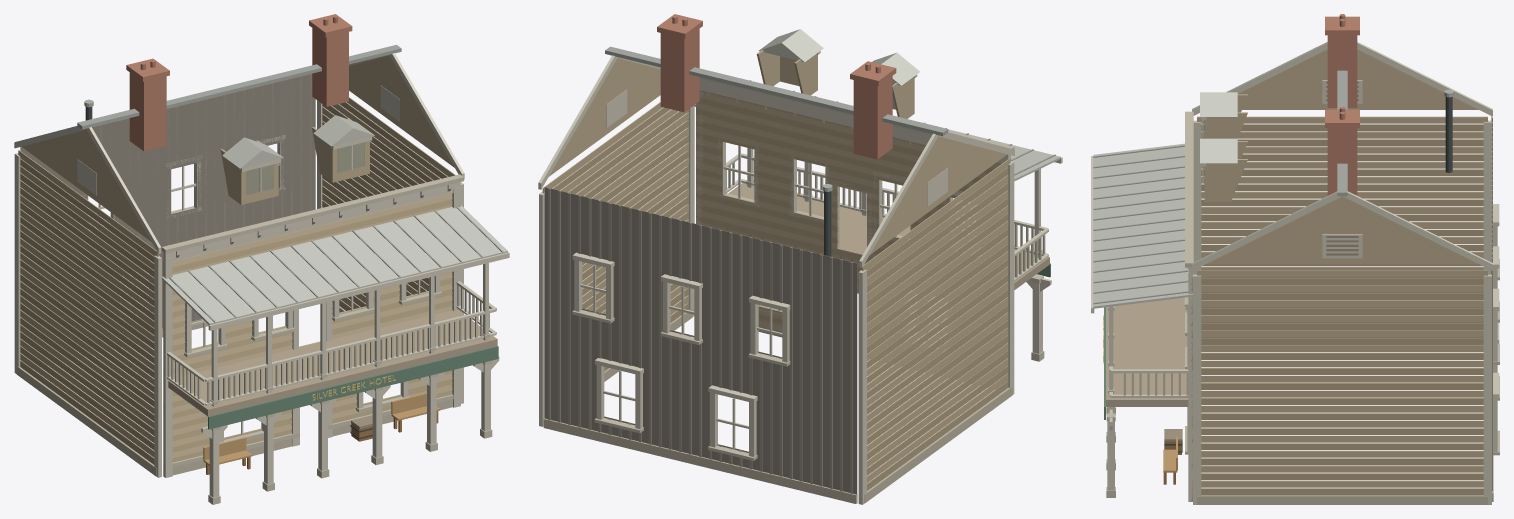
The model's file is hotel.glb.
The picture shows the model from 3 angles, left to right: view 1: azimuth 30°, elevation 25°; view 2: azimuth 150°, elevation 25°; view 3: azimuth 270°, elevation 25°; orthographic projection. The views are drawn at different scales.
Parts seen in each view (by area): view 1: Hotel paint, Hotel roof, Hotel wood, Hotel stone, Hotel glass; view 2: Hotel paint, Hotel stone, Hotel roof, Hotel wood, Hotel iron; view 3: Hotel paint, Hotel roof, Hotel wood, Hotel stone, Hotel iron.
Part boxes in pixels (x1,y1,x2,y2): Hotel paint: (14, 53, 509, 504); Hotel roof: (77, 45, 507, 324); Hotel wood: (168, 310, 497, 474); Hotel stone: (16, 14, 452, 476); Hotel glass: (246, 142, 364, 194); Hotel paint: (538, 50, 1062, 504); Hotel stone: (543, 14, 1012, 503); Hotel roof: (605, 29, 1060, 181); Hotel wood: (702, 183, 1049, 346); Hotel iron: (822, 184, 832, 256); Hotel paint: (1091, 42, 1499, 504); Hotel roof: (1093, 70, 1347, 308); Hotel wood: (1106, 81, 1358, 484); Hotel stone: (1191, 14, 1493, 504); Hotel iron: (1164, 89, 1453, 452).
Size of the model in its own units: 11.9 by 12.4 by 12.65.
